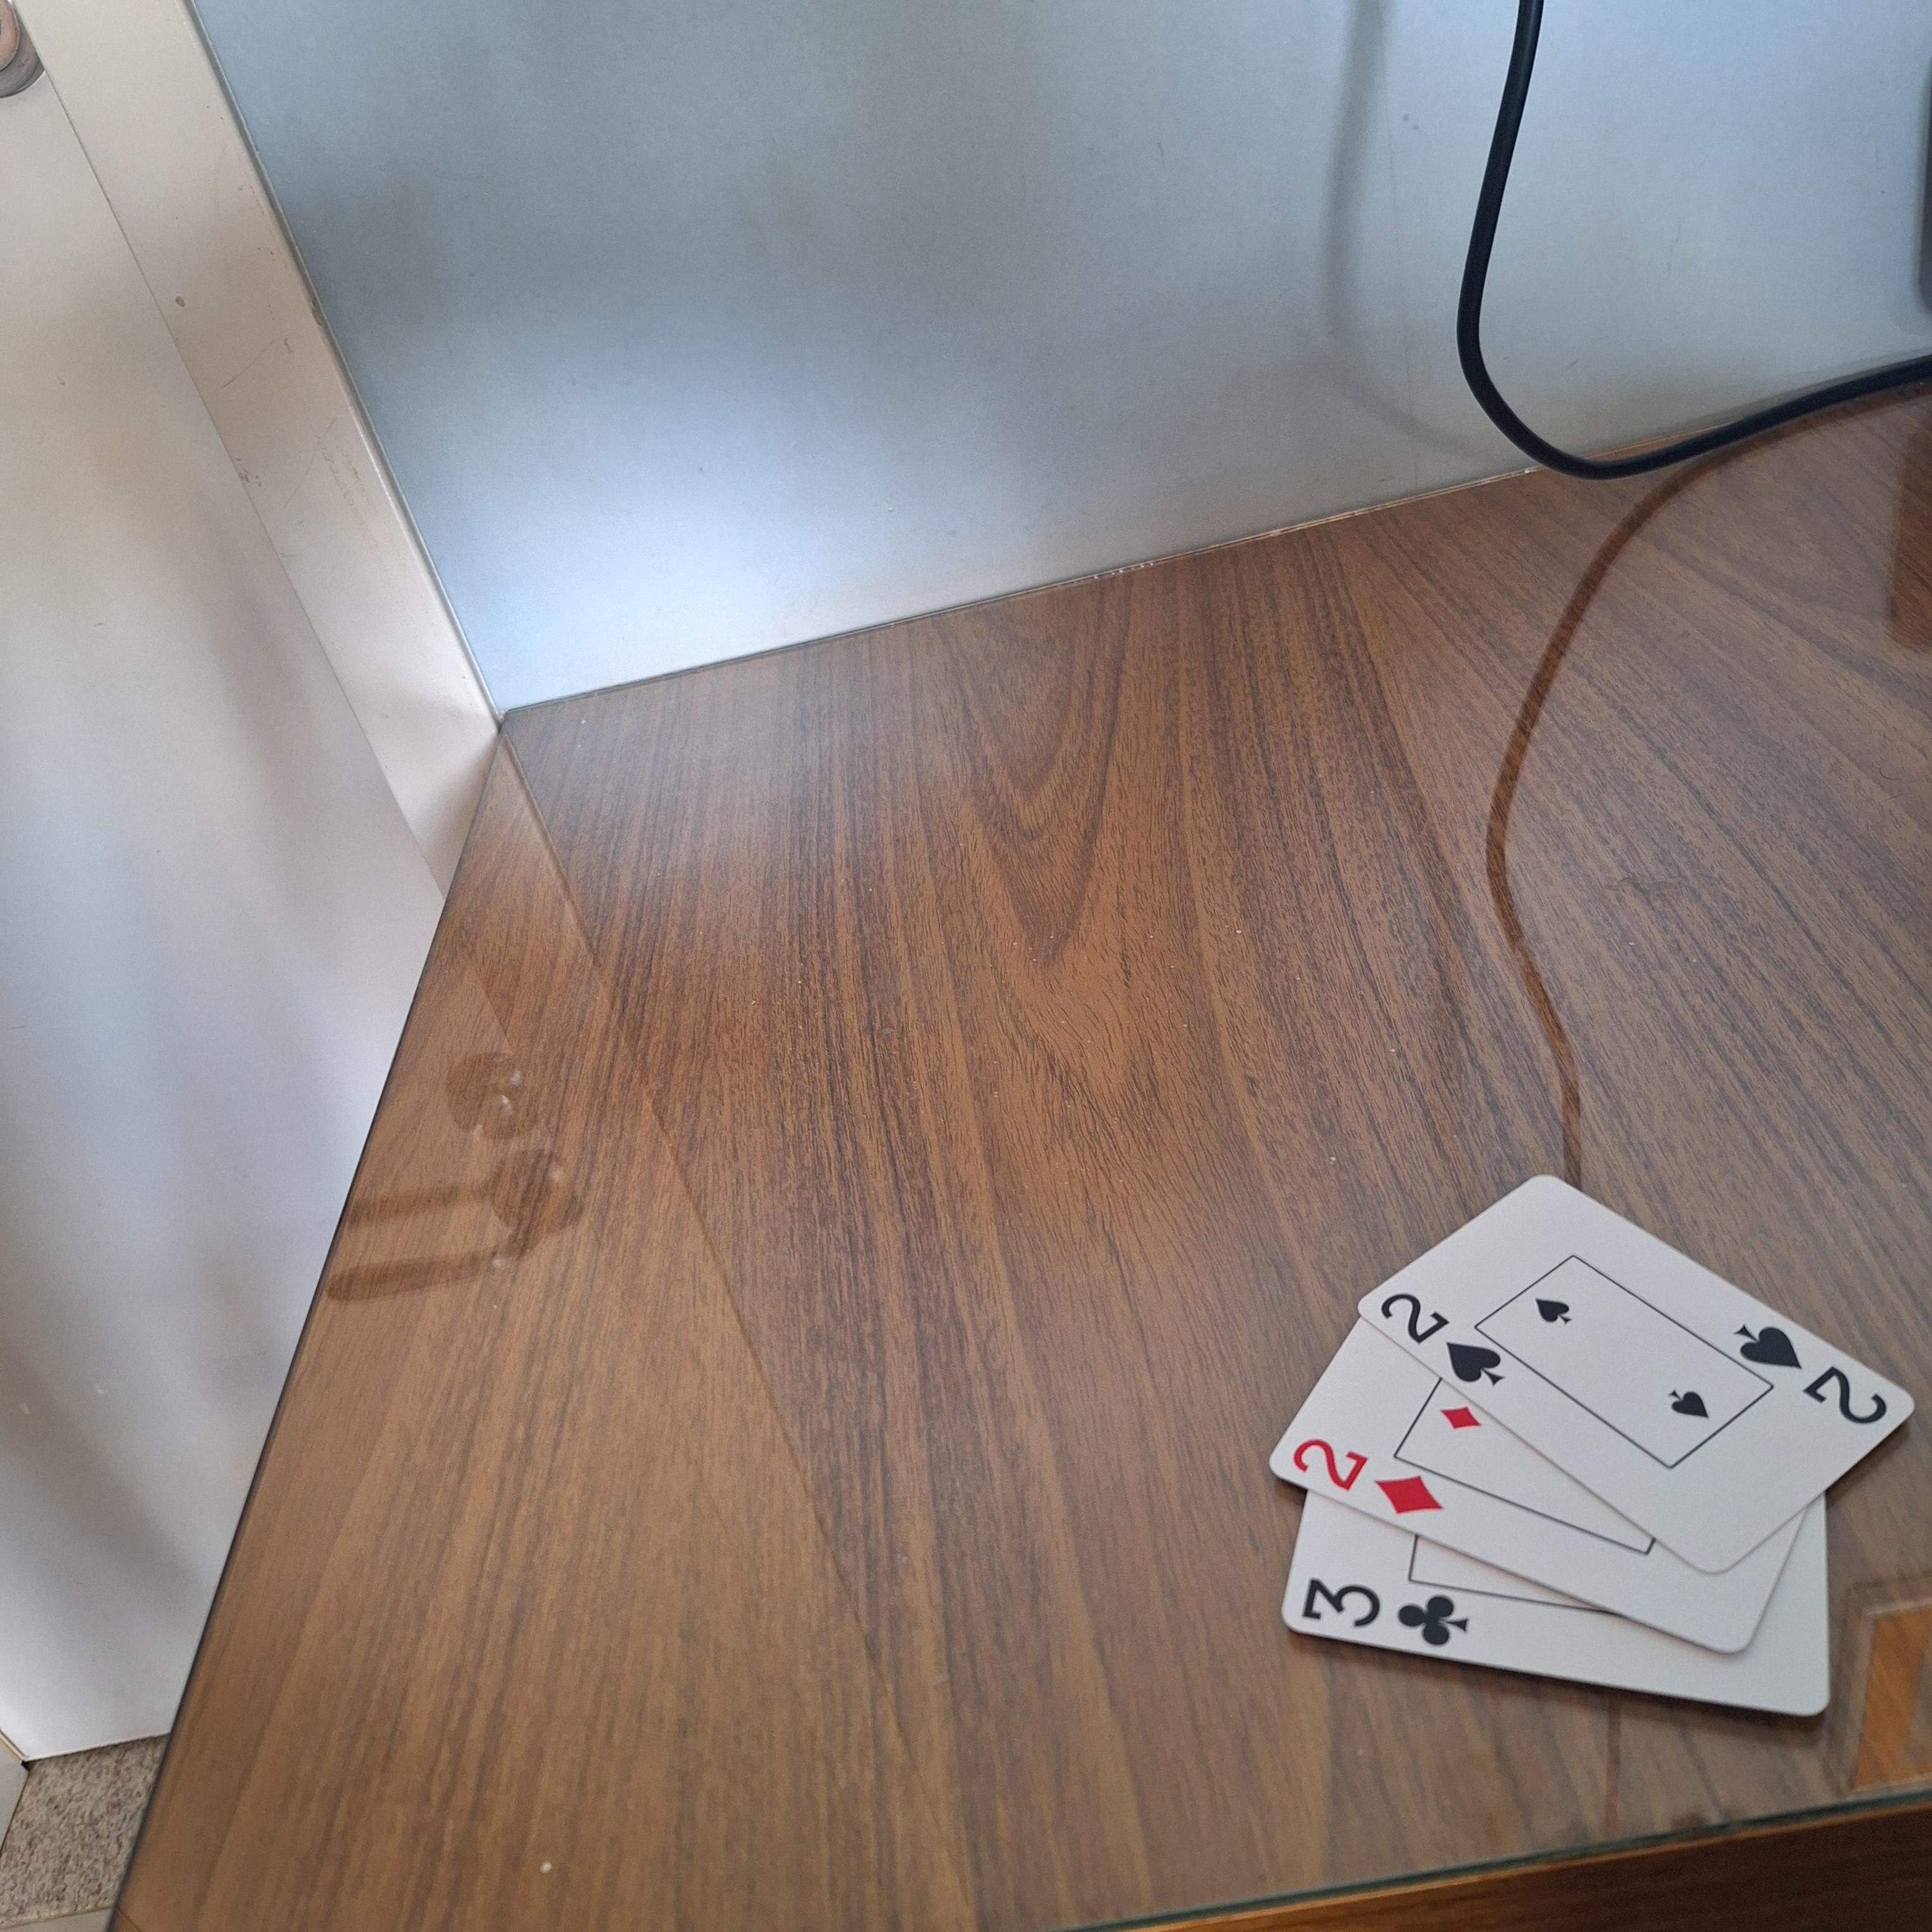2E: (1725, 1313, 1902, 1431), (1368, 1276, 1513, 1392)
2O: (1284, 1430, 1451, 1527)
3P: (1293, 1566, 1477, 1652)
